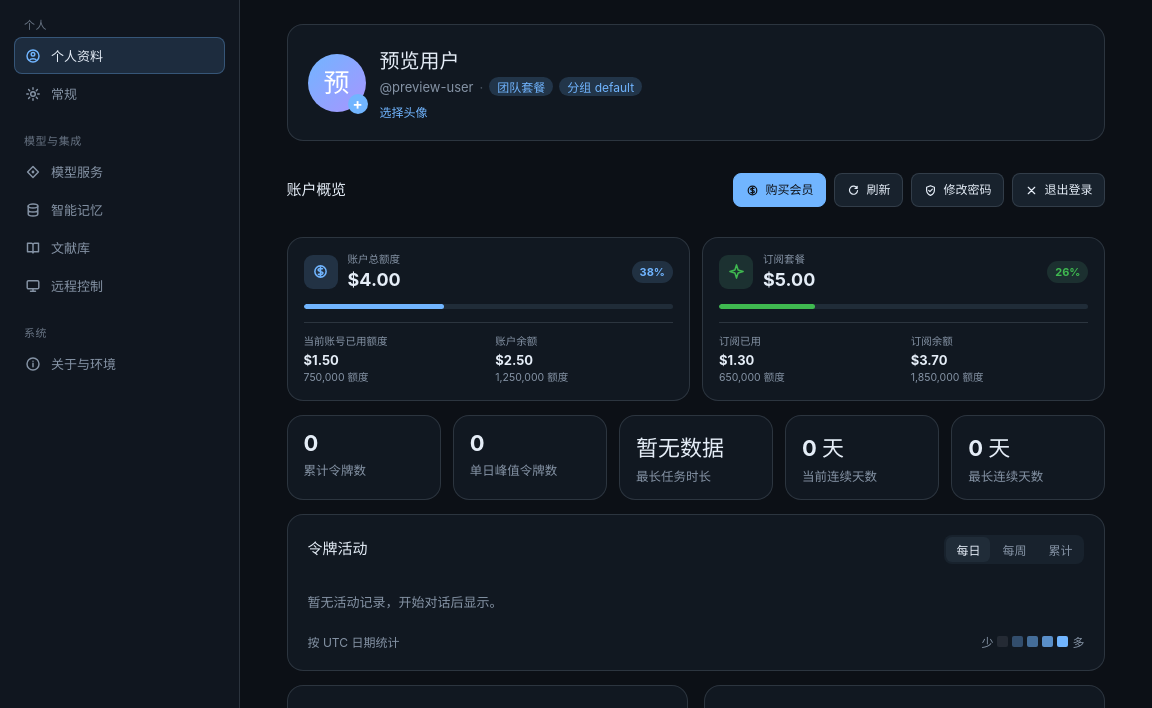
it: Settings against a native backend › publishes refreshed allowance to the menu and receives background balance updates
What coordinates should you click on to do the following:
click the button "刷新"
I would click on:
 (869, 190)
Its box is 834,173 -> 903,207.
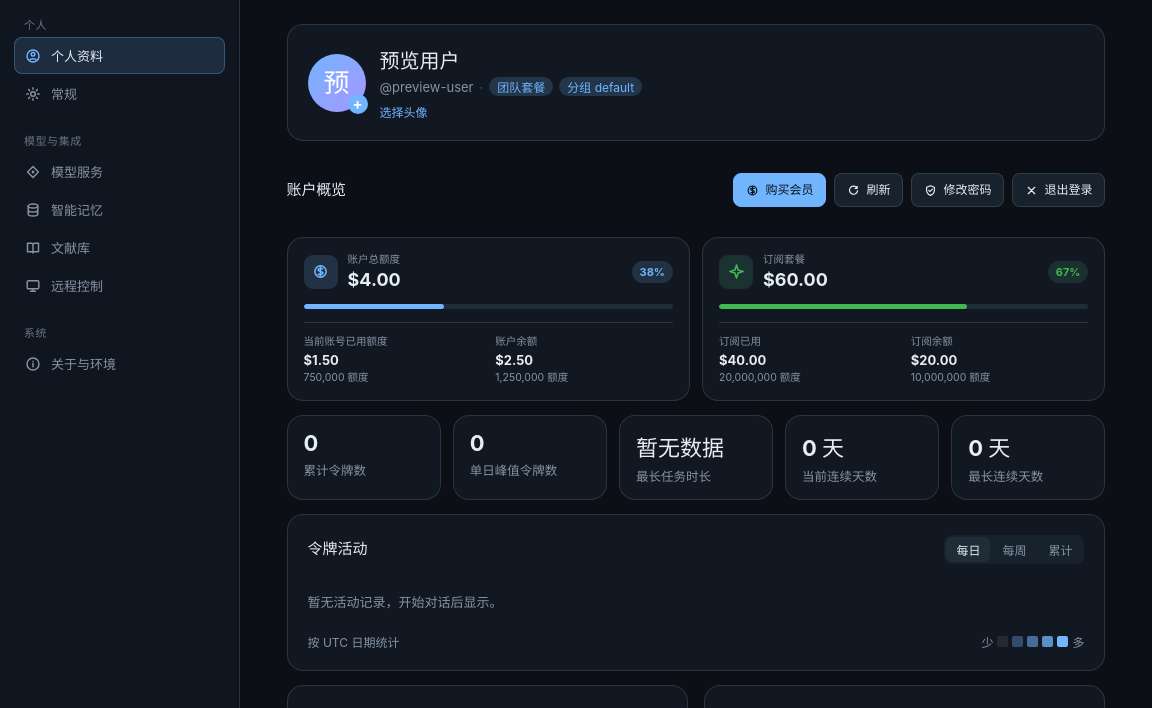
Now the text "$20.00" is shown, box 911,352 -> 957,368
